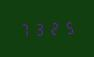five: (60, 19, 73, 35)
seven: (18, 21, 31, 37)
three: (32, 20, 45, 37)
two: (46, 20, 59, 36)
